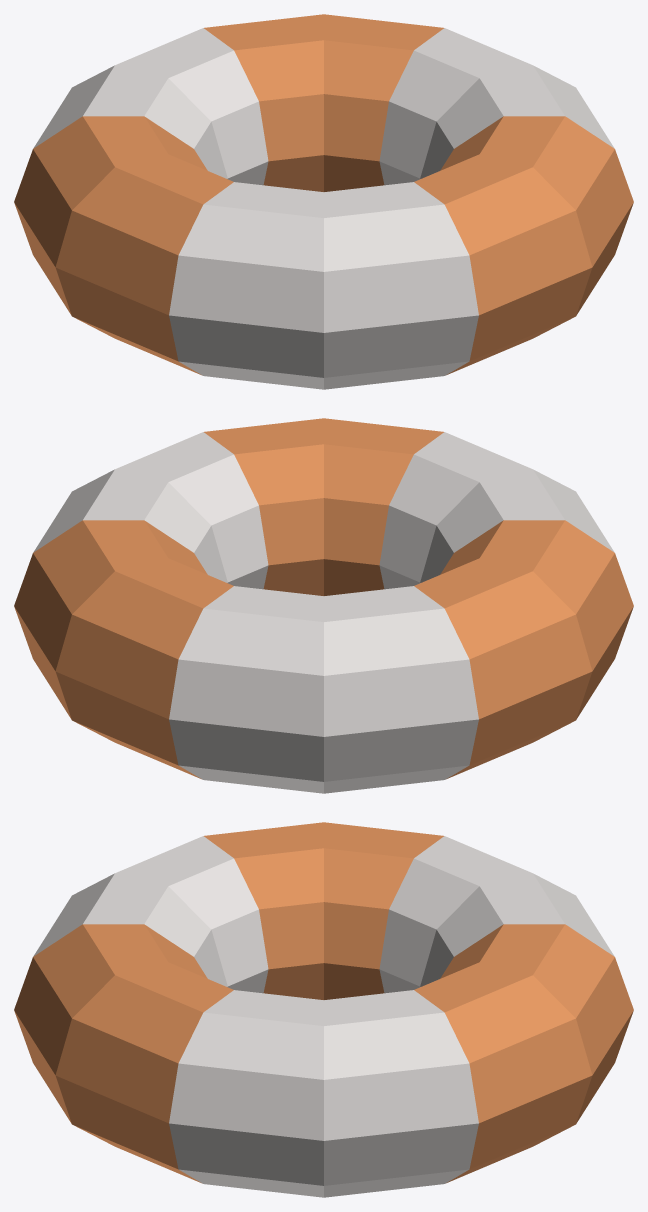
File: buoy.fbx
The picture shows the model from 3 angles, top to bottom: view 1: azimuth 30°, elevation 25°; view 2: azimuth 150°, elevation 25°; view 3: azimuth 270°, elevation 25°; orthographic projection.
Parts seen in each view (by area): view 1: buoy; view 2: buoy; view 3: buoy.
Part boxes in pixels (x1,y1,x2,y2): buoy: (14, 14, 633, 389); buoy: (14, 418, 633, 793); buoy: (14, 822, 633, 1197).
Size of the model in its own units: 3.12 by 0.9519 by 3.12.
